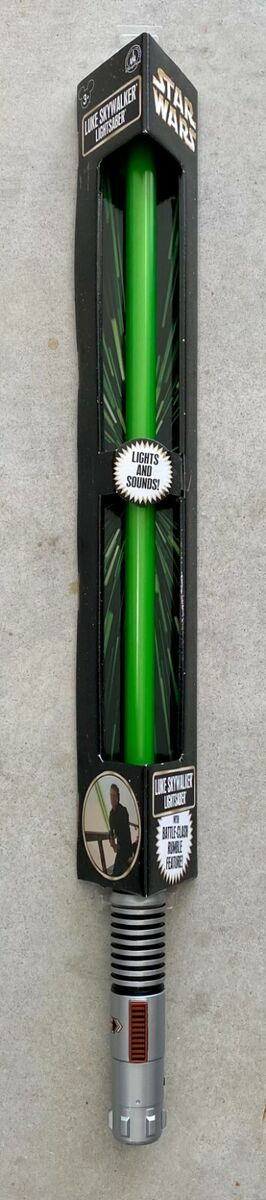lightsaber: (32, 0, 257, 1172)
